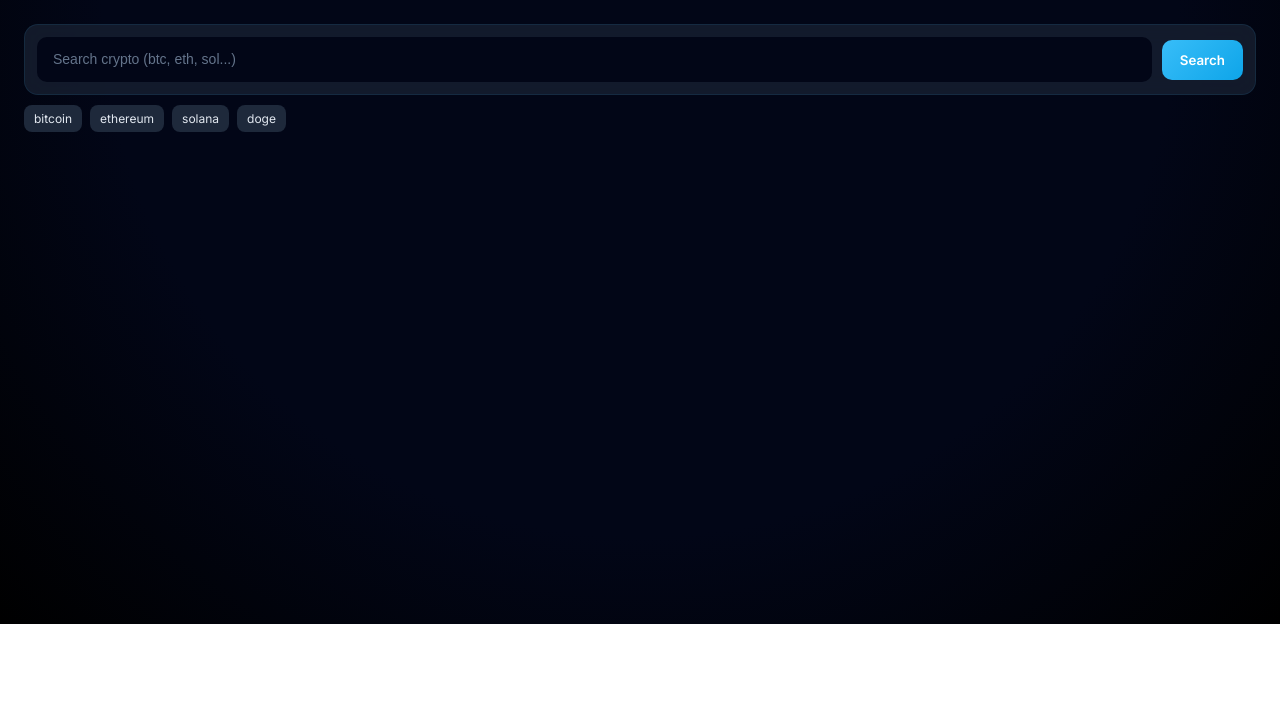
Dashboard › shows error when no coin found
Type "unknown" into the field with placeholder "Search crypto (btc, eth, sol...)" at (594, 60), box [37, 37, 1152, 82]
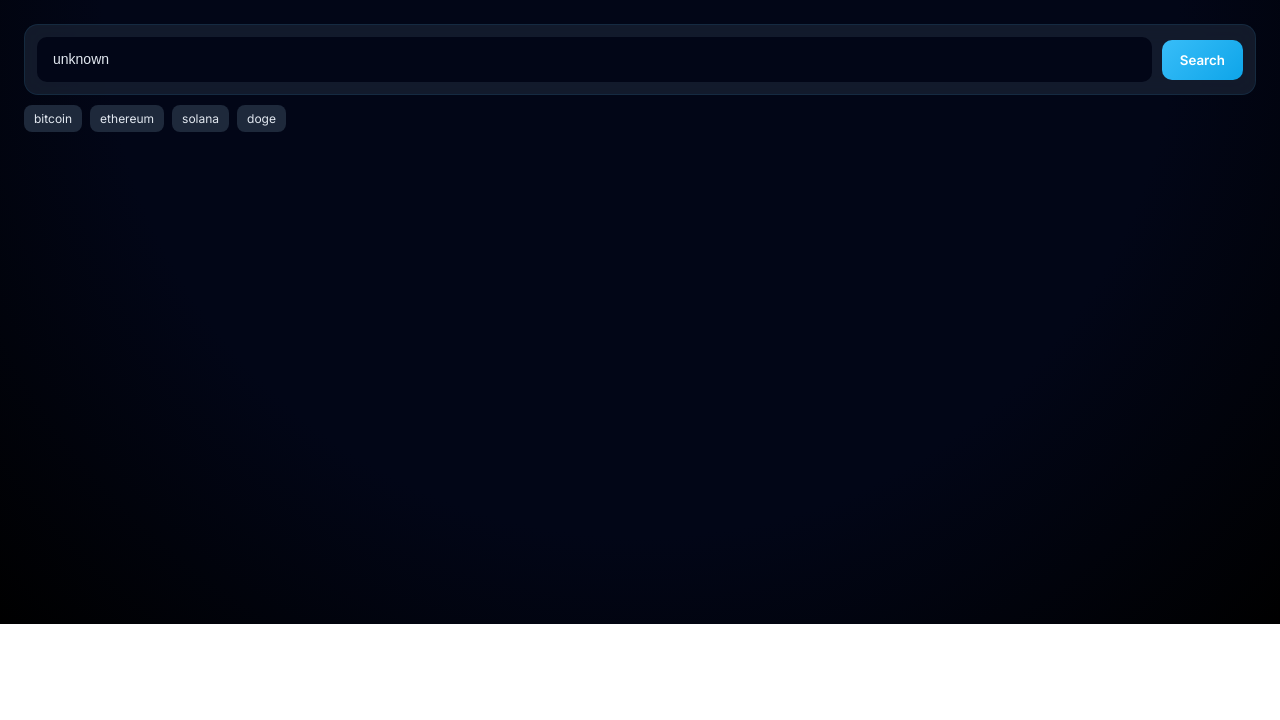
Click the button "Search" at (1202, 60), box [1162, 40, 1243, 80]
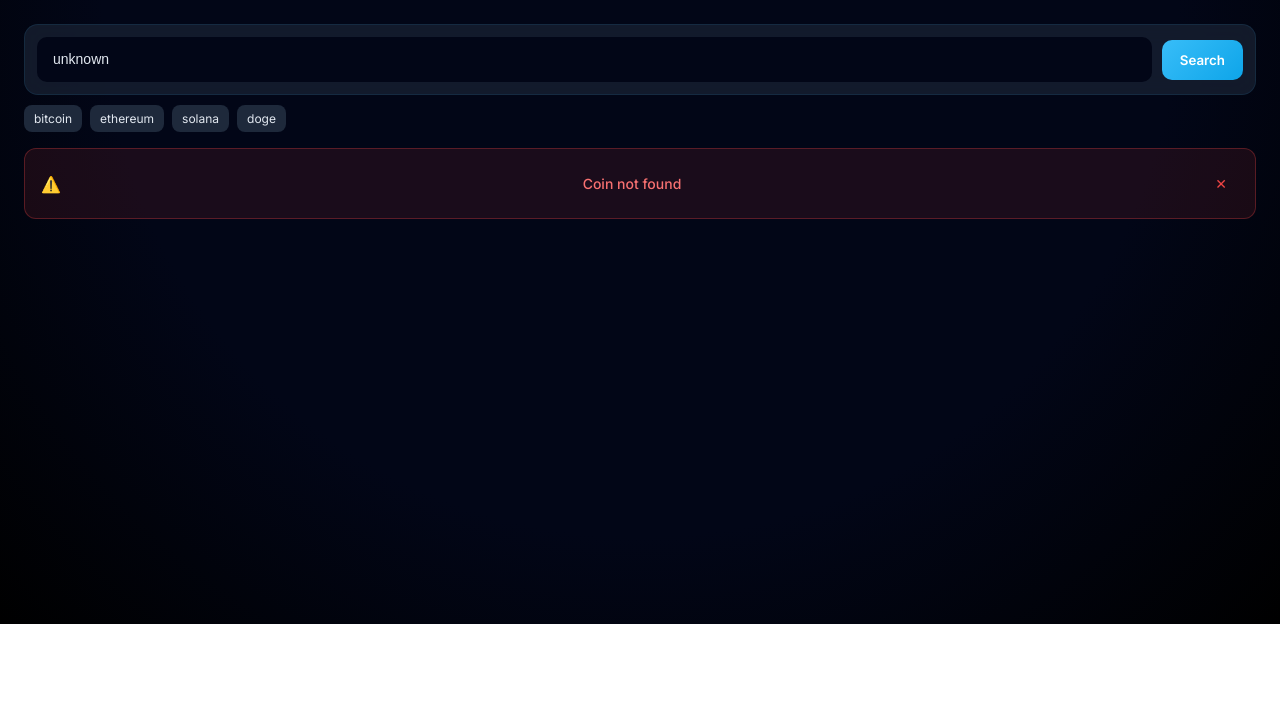
Now the text "Coin not found" is shown, box [583, 175, 681, 192]
